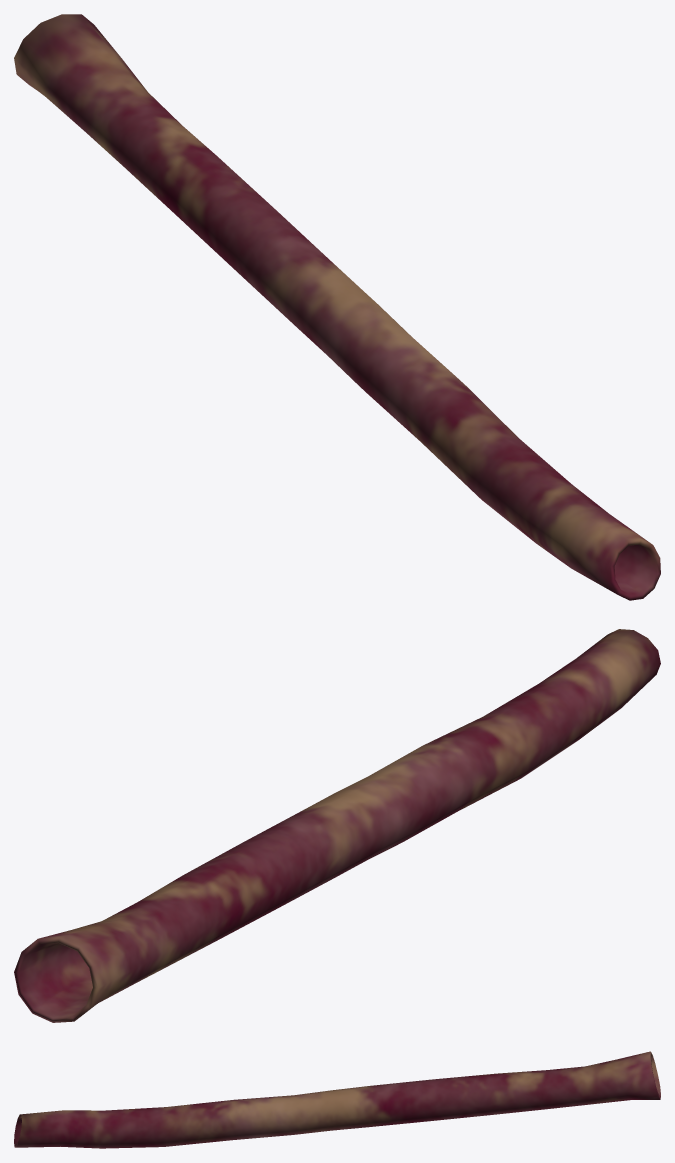
The model's file is kalin.fbx.
3 renders of one model, top to bottom at view 1: azimuth 30°, elevation 25°; view 2: azimuth 150°, elevation 25°; view 3: azimuth 270°, elevation 25°, orthographic. The views are drawn at different scales.
Parts seen in each view (by area): view 1: Division_1; view 2: Division_1; view 3: Division_1.
Part boxes in pixels (box(x1,y1,x2,y2)): Division_1: box(14, 14, 660, 600); Division_1: box(14, 629, 660, 1022); Division_1: box(14, 1051, 660, 1148).
Size of the model in its own units: 1924 by 3677 by 23399.
